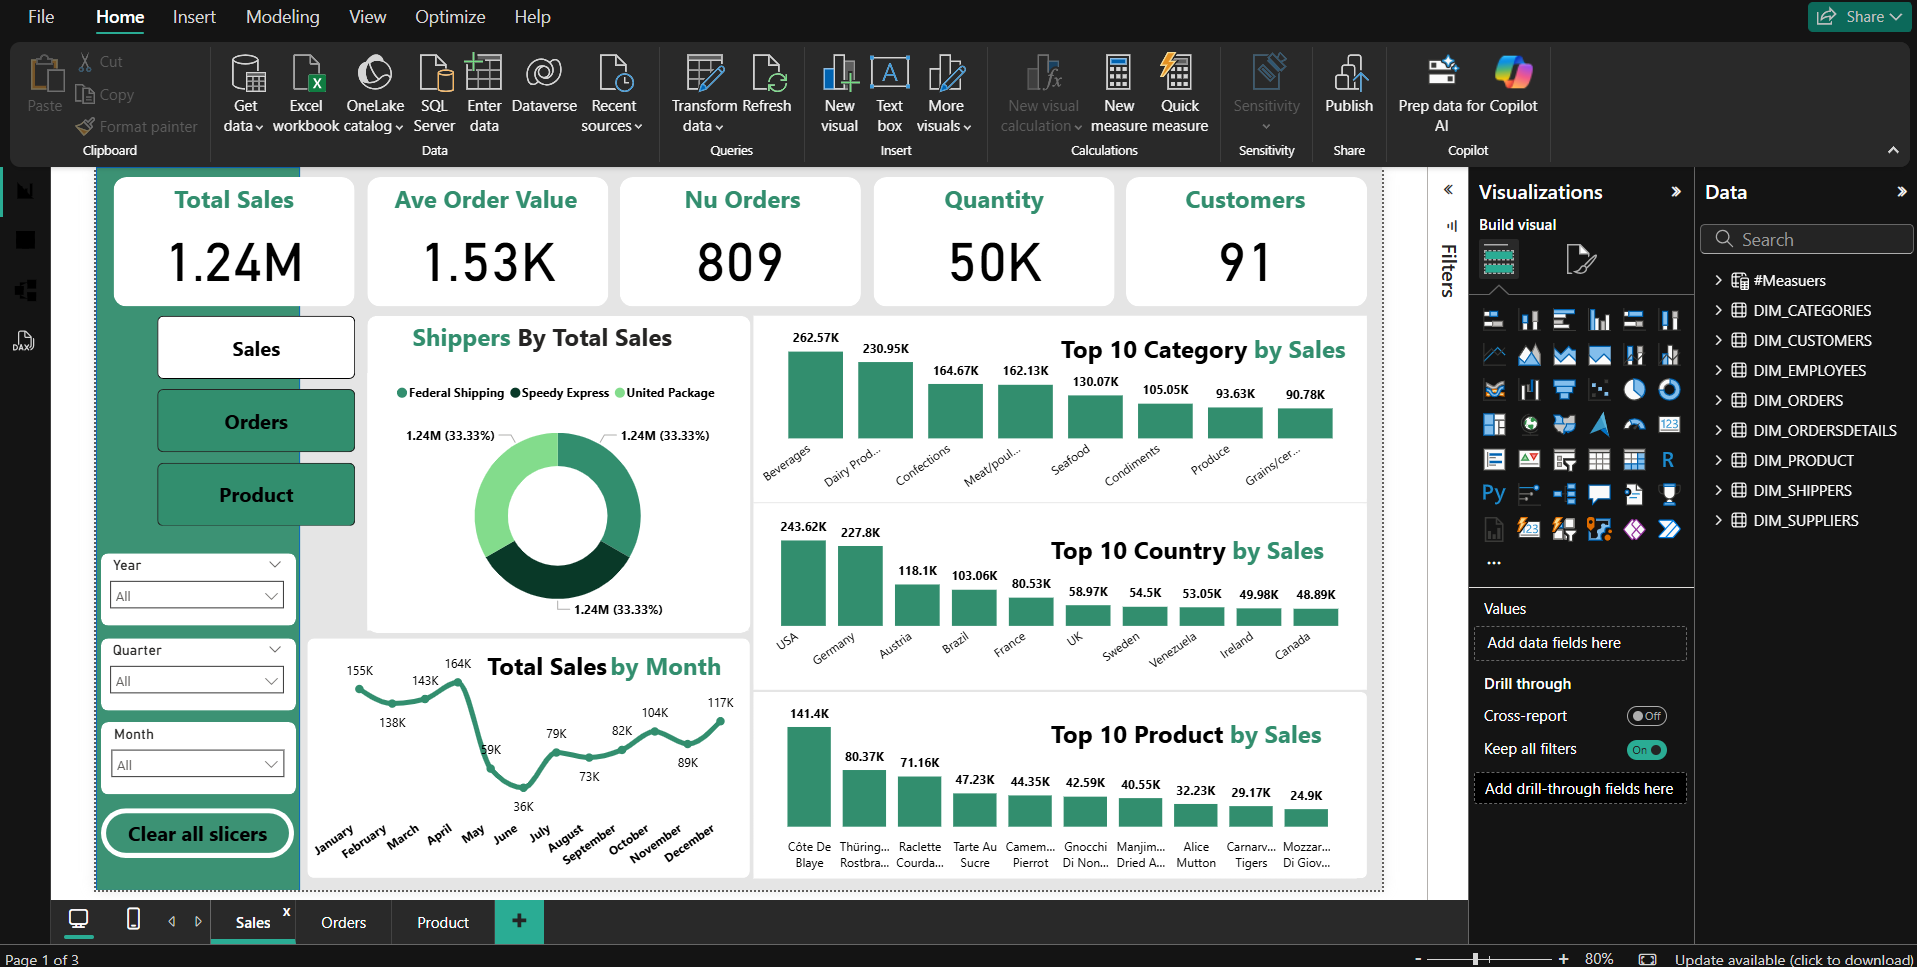

This screenshot's page, from the dashboard's own definition file:
{"tool":"powerbi","page":{"name":"Sales","canvas":[1280,720],"ordinal":0},"visuals":[{"type":"shape","box":[270.3,148.2,381.5,315.6],"z":0},{"type":"shape","box":[654.5,334.8,610.6,185.2],"z":1000},{"type":"shape","box":[654.5,522.8,610.6,185.2],"z":2000},{"type":"shape","box":[654.5,148.2,610.6,185.2],"z":3000},{"type":"shape","box":[0,0,203.1,720.4],"z":4000},{"type":"shape","box":[17.8,9.6,240,129],"z":5000},{"type":"shape","box":[1025,9.6,240,129],"z":6000},{"type":"shape","box":[773.2,9.6,240,129],"z":7000},{"type":"shape","box":[521.4,9.6,240,129],"z":8000},{"type":"shape","box":[269.6,9.6,240,129],"z":9000},{"type":"shape","box":[209.9,469.3,440.5,238.8],"z":10000},{"type":"card","title":"Age Order Value","fields":{"Values":["#Measuers.AOV"]},"box":[270.3,35.7,240.1,102.9],"z":11000},{"type":"card","title":"Customers","fields":{"Values":["#Measuers.Customers"]},"box":[1025,35.7,240.1,102.9],"z":12000},{"type":"card","title":"Nu Orders","fields":{"Values":["#Measuers.Orders"]},"box":[521.4,35.7,240.1,102.9],"z":13000},{"type":"card","title":"Total Sales","fields":{"Values":["#Measuers.Total Revenue 1"]},"box":[17.8,35.7,240.1,102.9],"z":14000},{"type":"card","title":"Quantity","fields":{"Values":["#Measuers.Quantity"]},"box":[773.9,35.7,240.1,102.9],"z":15000},{"type":"clusteredColumnChart","fields":{"Category":["DIM_CATEGORIES.CATEGORYNAME"],"Y":["#Measuers.Total Revenue 1"]},"box":[654.5,148.2,610.6,185.2],"z":16000},{"type":"clusteredColumnChart","fields":{"Y":["#Measuers.Total Revenue 1"],"Category":["DIM_PRODUCT.PRODUCTNAME"]},"box":[654.5,522.8,599.7,185.2],"z":17000},{"type":"lineChart","fields":{"Y":["#Measuers.Total Revenue 1"],"Category":["DIM_ORDERS.ORDERDATE.Variation.Date Hierarchy.Month"]},"box":[209.9,469.3,429.5,247],"z":19000},{"type":"clusteredColumnChart","fields":{"Y":["#Measuers.Total Revenue 1"],"Category":["DIM_ORDERS.SHIPCOUNTRY"]},"box":[654.5,334.8,610.6,185.2],"z":20000},{"type":"textbox","box":[945.5,542,299.1,48],"z":21000},{"type":"textbox","box":[945.5,359.5,299.1,48],"z":22000},{"type":"textbox","box":[955.1,159.2,310.1,48],"z":23000},{"type":"textbox","box":[384.2,474.8,252.5,48],"z":24000},{"type":"textbox","box":[258,148.2,373.2,52.1],"z":25000},{"type":"actionButton","box":[5.5,638.1,192.1,49.4],"z":26000},{"type":"pageNavigator","box":[60.4,148.2,197.6,211.3],"z":27000},{"type":"textbox","box":[50.8,9.6,172.9,52.1],"z":28000},{"type":"textbox","box":[271.7,9.6,240.1,52.1],"z":29000},{"type":"textbox","box":[520.1,9.6,240.1,52.1],"z":30000},{"type":"textbox","box":[773.9,9.6,240.1,52.1],"z":31000},{"type":"textbox","box":[1023.7,9.6,240.1,52.1],"z":32000},{"type":"shape","box":[5,384.4,194.1,72.1],"z":33000},{"type":"shape","box":[5,469,194.1,72.1],"z":34000},{"type":"shape","box":[5,552.3,194.1,72.1],"z":35000},{"type":"slicer","fields":{"Values":["DIM_ORDERS.ORDERDATE.Variation.Date Hierarchy.Year"]},"box":[4.1,382.8,193.5,74.1],"z":36000},{"type":"slicer","fields":{"Values":["DIM_ORDERS.ORDERDATE.Variation.Date Hierarchy.Quarter"]},"box":[4.1,467.9,193.5,72.7],"z":37000},{"type":"slicer","fields":{"Values":["DIM_ORDERS.ORDERDATE.Variation.Date Hierarchy.Month"]},"box":[5.5,551.6,192.1,72.7],"z":38000},{"type":"donutChart","fields":{"Y":["#Measuers.Total Revenue 1"],"Category":["DIM_SHIPPERS.COMPANYNAME"]},"box":[269.9,205.3,379.4,256.3],"z":39000}]}

Visuals, with their boxes on the page's 1280x720 design canvas (x1, y1, x2, y2). These are canvas units, not pixel positions in the 1917x967 screenshot, which may show the page scaled, cropped or inside an application window:
shape: <bbox>270, 148, 652, 464</bbox>
shape: <bbox>654, 335, 1265, 520</bbox>
shape: <bbox>654, 523, 1265, 708</bbox>
shape: <bbox>654, 148, 1265, 333</bbox>
shape: <bbox>0, 0, 203, 720</bbox>
shape: <bbox>18, 10, 258, 139</bbox>
shape: <bbox>1025, 10, 1265, 139</bbox>
shape: <bbox>773, 10, 1013, 139</bbox>
shape: <bbox>521, 10, 761, 139</bbox>
shape: <bbox>270, 10, 510, 139</bbox>
shape: <bbox>210, 469, 650, 708</bbox>
"Age Order Value" card: <bbox>270, 36, 510, 139</bbox>
"Customers" card: <bbox>1025, 36, 1265, 139</bbox>
"Nu Orders" card: <bbox>521, 36, 762, 139</bbox>
"Total Sales" card: <bbox>18, 36, 258, 139</bbox>
"Quantity" card: <bbox>774, 36, 1014, 139</bbox>
clusteredColumnChart - DIM_CATEGORIES.CATEGORYNAME x #Measuers.Total Revenue 1: <bbox>654, 148, 1265, 333</bbox>
clusteredColumnChart - #Measuers.Total Revenue 1 x DIM_PRODUCT.PRODUCTNAME: <bbox>654, 523, 1254, 708</bbox>
lineChart - #Measuers.Total Revenue 1 x DIM_ORDERS.ORDERDATE.Variation.Date Hierarchy.Month: <bbox>210, 469, 639, 716</bbox>
clusteredColumnChart - #Measuers.Total Revenue 1 x DIM_ORDERS.SHIPCOUNTRY: <bbox>654, 335, 1265, 520</bbox>
textbox: <bbox>946, 542, 1245, 590</bbox>
textbox: <bbox>946, 360, 1245, 408</bbox>
textbox: <bbox>955, 159, 1265, 207</bbox>
textbox: <bbox>384, 475, 637, 523</bbox>
textbox: <bbox>258, 148, 631, 200</bbox>
actionButton: <bbox>6, 638, 198, 688</bbox>
pageNavigator: <bbox>60, 148, 258, 360</bbox>
textbox: <bbox>51, 10, 224, 62</bbox>
textbox: <bbox>272, 10, 512, 62</bbox>
textbox: <bbox>520, 10, 760, 62</bbox>
textbox: <bbox>774, 10, 1014, 62</bbox>
textbox: <bbox>1024, 10, 1264, 62</bbox>
shape: <bbox>5, 384, 199, 456</bbox>
shape: <bbox>5, 469, 199, 541</bbox>
shape: <bbox>5, 552, 199, 624</bbox>
slicer - DIM_ORDERS.ORDERDATE.Variation.Date Hierarchy.Year: <bbox>4, 383, 198, 457</bbox>
slicer - DIM_ORDERS.ORDERDATE.Variation.Date Hierarchy.Quarter: <bbox>4, 468, 198, 541</bbox>
slicer - DIM_ORDERS.ORDERDATE.Variation.Date Hierarchy.Month: <bbox>6, 552, 198, 624</bbox>
donutChart - #Measuers.Total Revenue 1 x DIM_SHIPPERS.COMPANYNAME: <bbox>270, 205, 649, 462</bbox>
